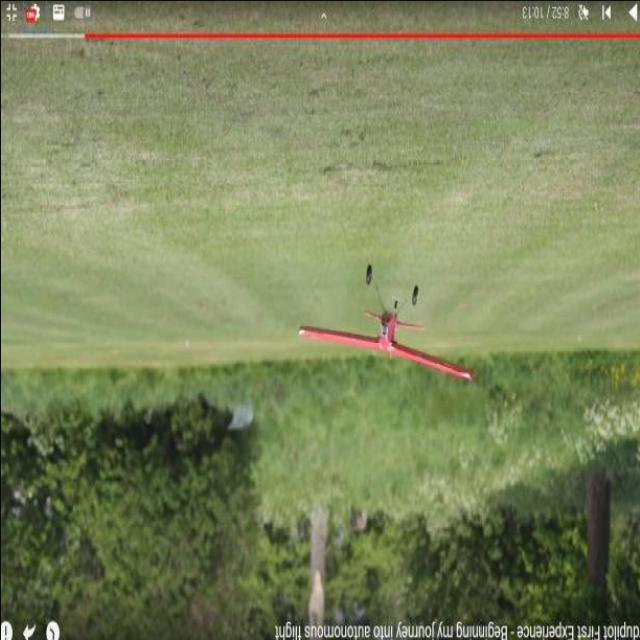plane: (295, 264, 474, 382)
